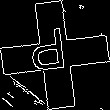P_S: (34, 27, 76, 83)
